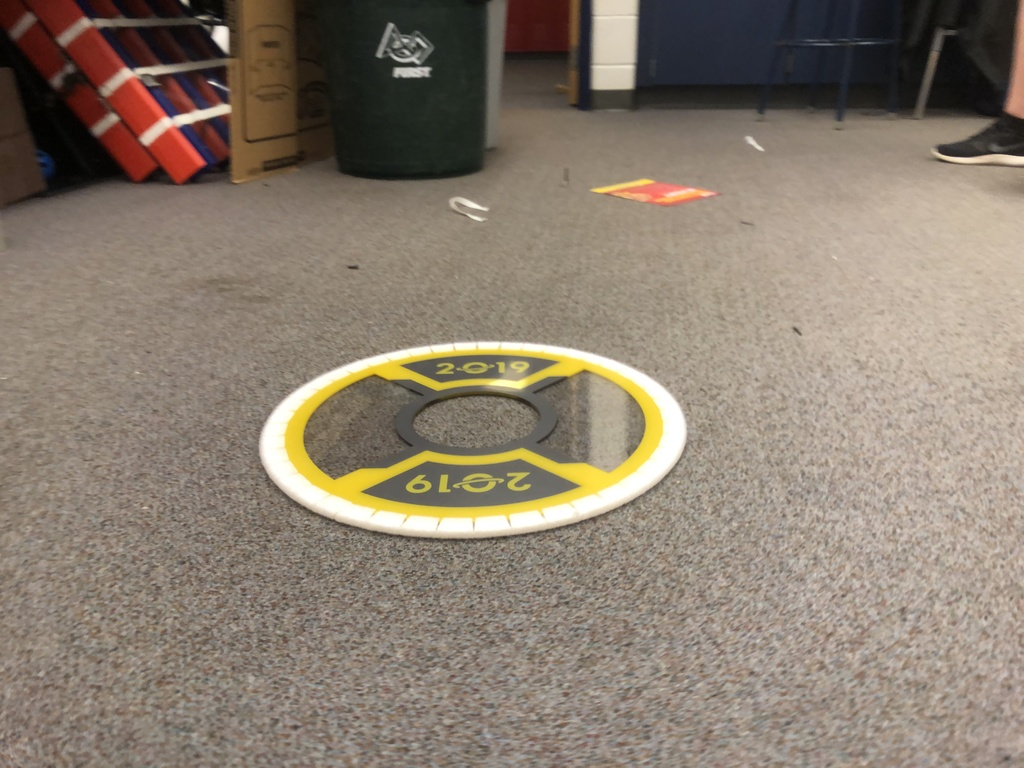hatch_panel: (242, 324, 709, 546)
